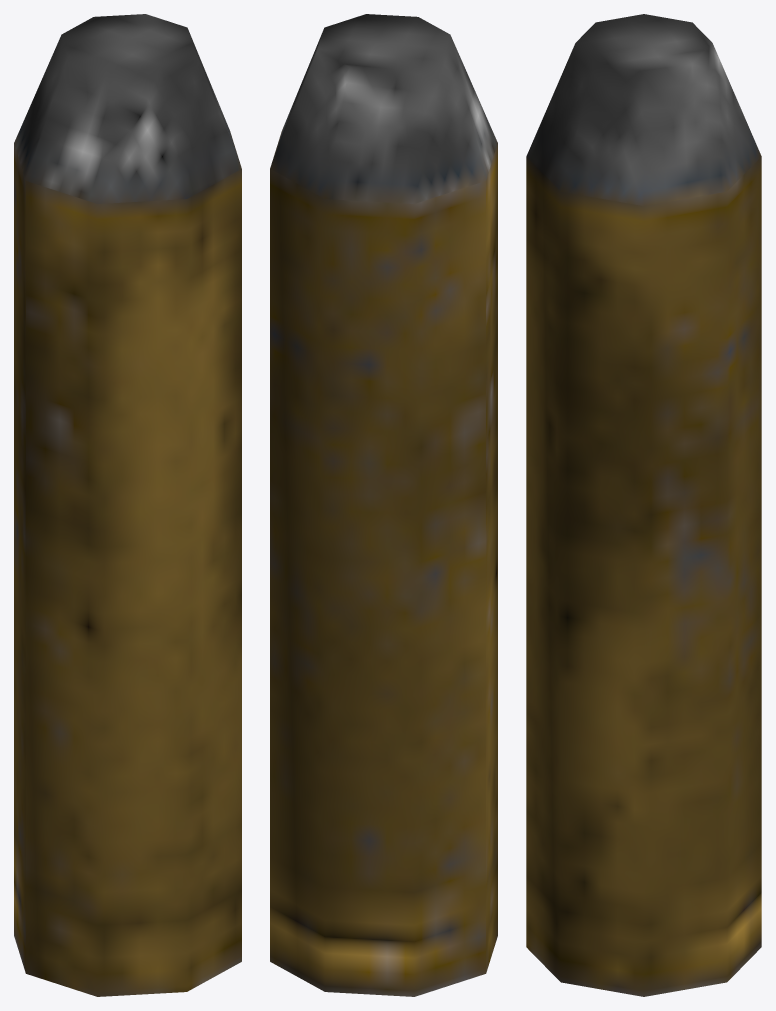
Rendered from HandmadeCartridge.fbx.
3 views of the same model, side by side, from view 1: azimuth 30°, elevation 25°; view 2: azimuth 150°, elevation 25°; view 3: azimuth 270°, elevation 25° (orthographic).
Parts seen in each view (by area): view 1: Cube.006; view 2: Cube.006; view 3: Cube.006.
Part boxes in pixels (x1,y1,x2,y2): Cube.006: [14, 14, 241, 996]; Cube.006: [270, 14, 497, 996]; Cube.006: [526, 14, 761, 996].
Size of the model in its own units: 0.00691 by 0.0293 by 0.00691.
